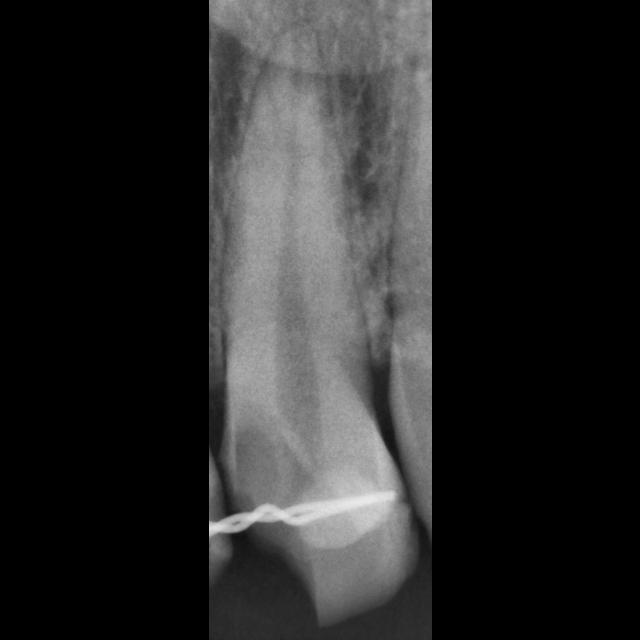tooth: (217, 20, 420, 629)
